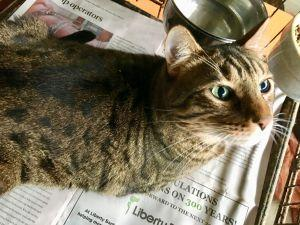bengal: (158, 18, 288, 153)
